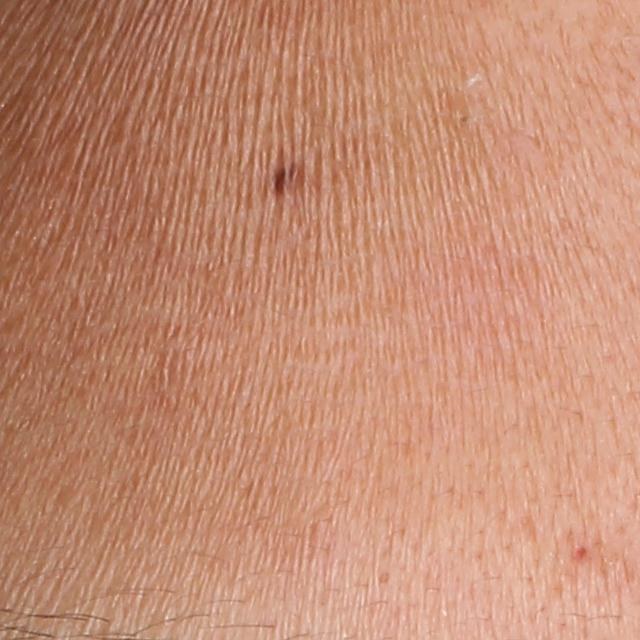comedo: (374, 568, 395, 585)
